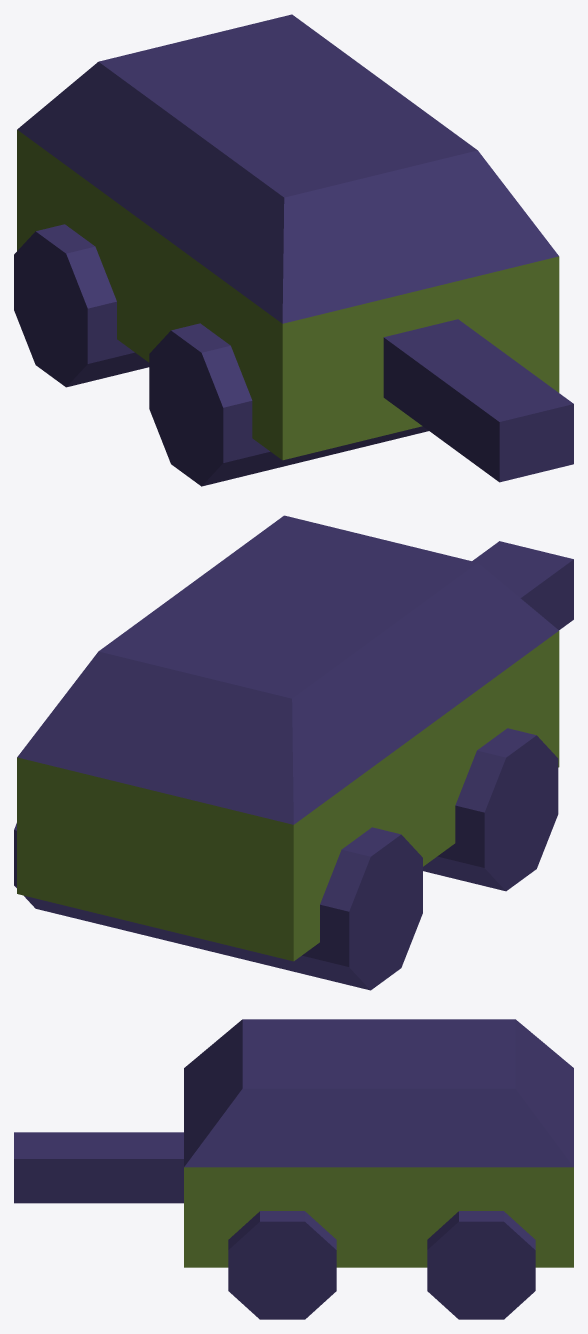
Rendered from tank.fbx.
3 views of the same model, one above another, from view 1: azimuth 30°, elevation 25°; view 2: azimuth 150°, elevation 25°; view 3: azimuth 270°, elevation 25° (orthographic). The views are drawn at different scales.
Visible parts, largest first — view 1: TankBase22, WheelsFirst22, WheelsSecond22; view 2: TankBase22, WheelsSecond22, WheelsFirst22; view 3: TankBase22, WheelsFirst22, WheelsSecond22.
Part boxes in pixels (<box>): TankBase22: <box>17,14,573,482</box>; WheelsFirst22: <box>149,323,428,486</box>; WheelsSecond22: <box>14,224,149,387</box>; TankBase22: <box>17,515,573,961</box>; WheelsSecond22: <box>14,823,422,990</box>; WheelsFirst22: <box>423,728,558,891</box>; TankBase22: <box>14,1019,573,1267</box>; WheelsFirst22: <box>228,1211,336,1319</box>; WheelsSecond22: <box>427,1211,535,1319</box>.
Size of the model in its own units: 242 by 194 by 477.
